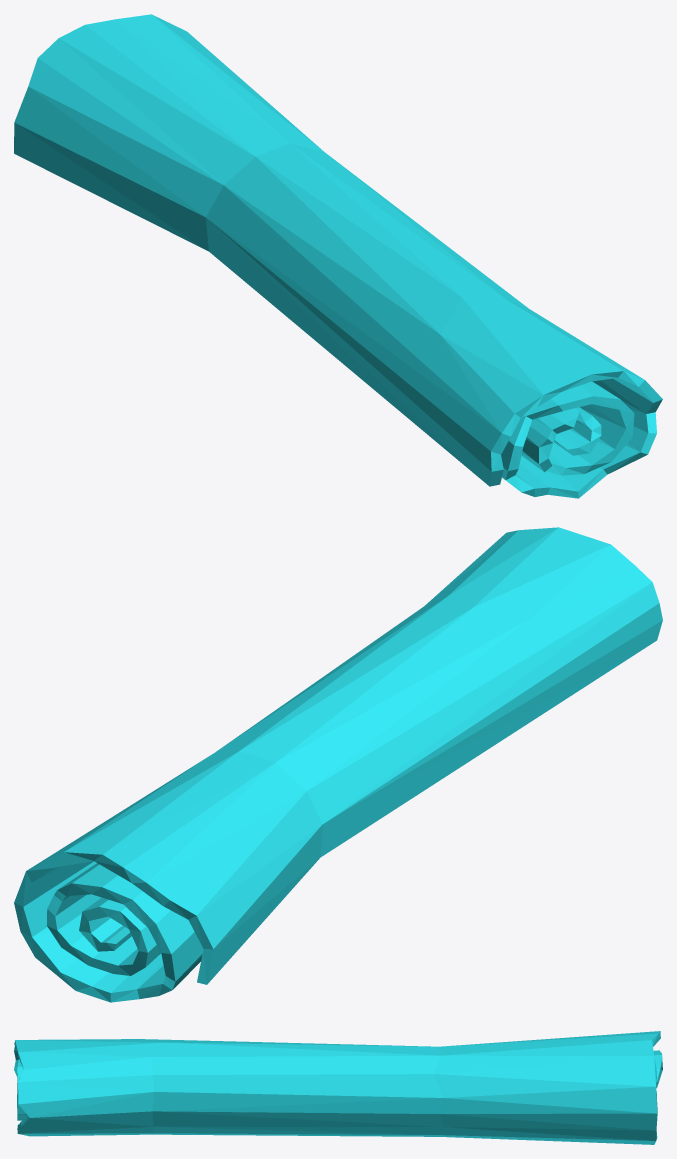
File: Cloth 02.fbx
The picture shows the model from 3 angles, top to bottom: view 1: azimuth 30°, elevation 25°; view 2: azimuth 150°, elevation 25°; view 3: azimuth 270°, elevation 25°; orthographic projection. The views are drawn at different scales.
Parts seen in each view (by area): view 1: Cloth 02; view 2: Cloth 02; view 3: Cloth 02.
Part boxes in pixels (box(x1,y1,x2,y2)): Cloth 02: box(14, 14, 662, 498); Cloth 02: box(14, 527, 662, 1002); Cloth 02: box(14, 1031, 662, 1144).
Bounding box in the file's own units: 41.58 × 30.44 × 180.
